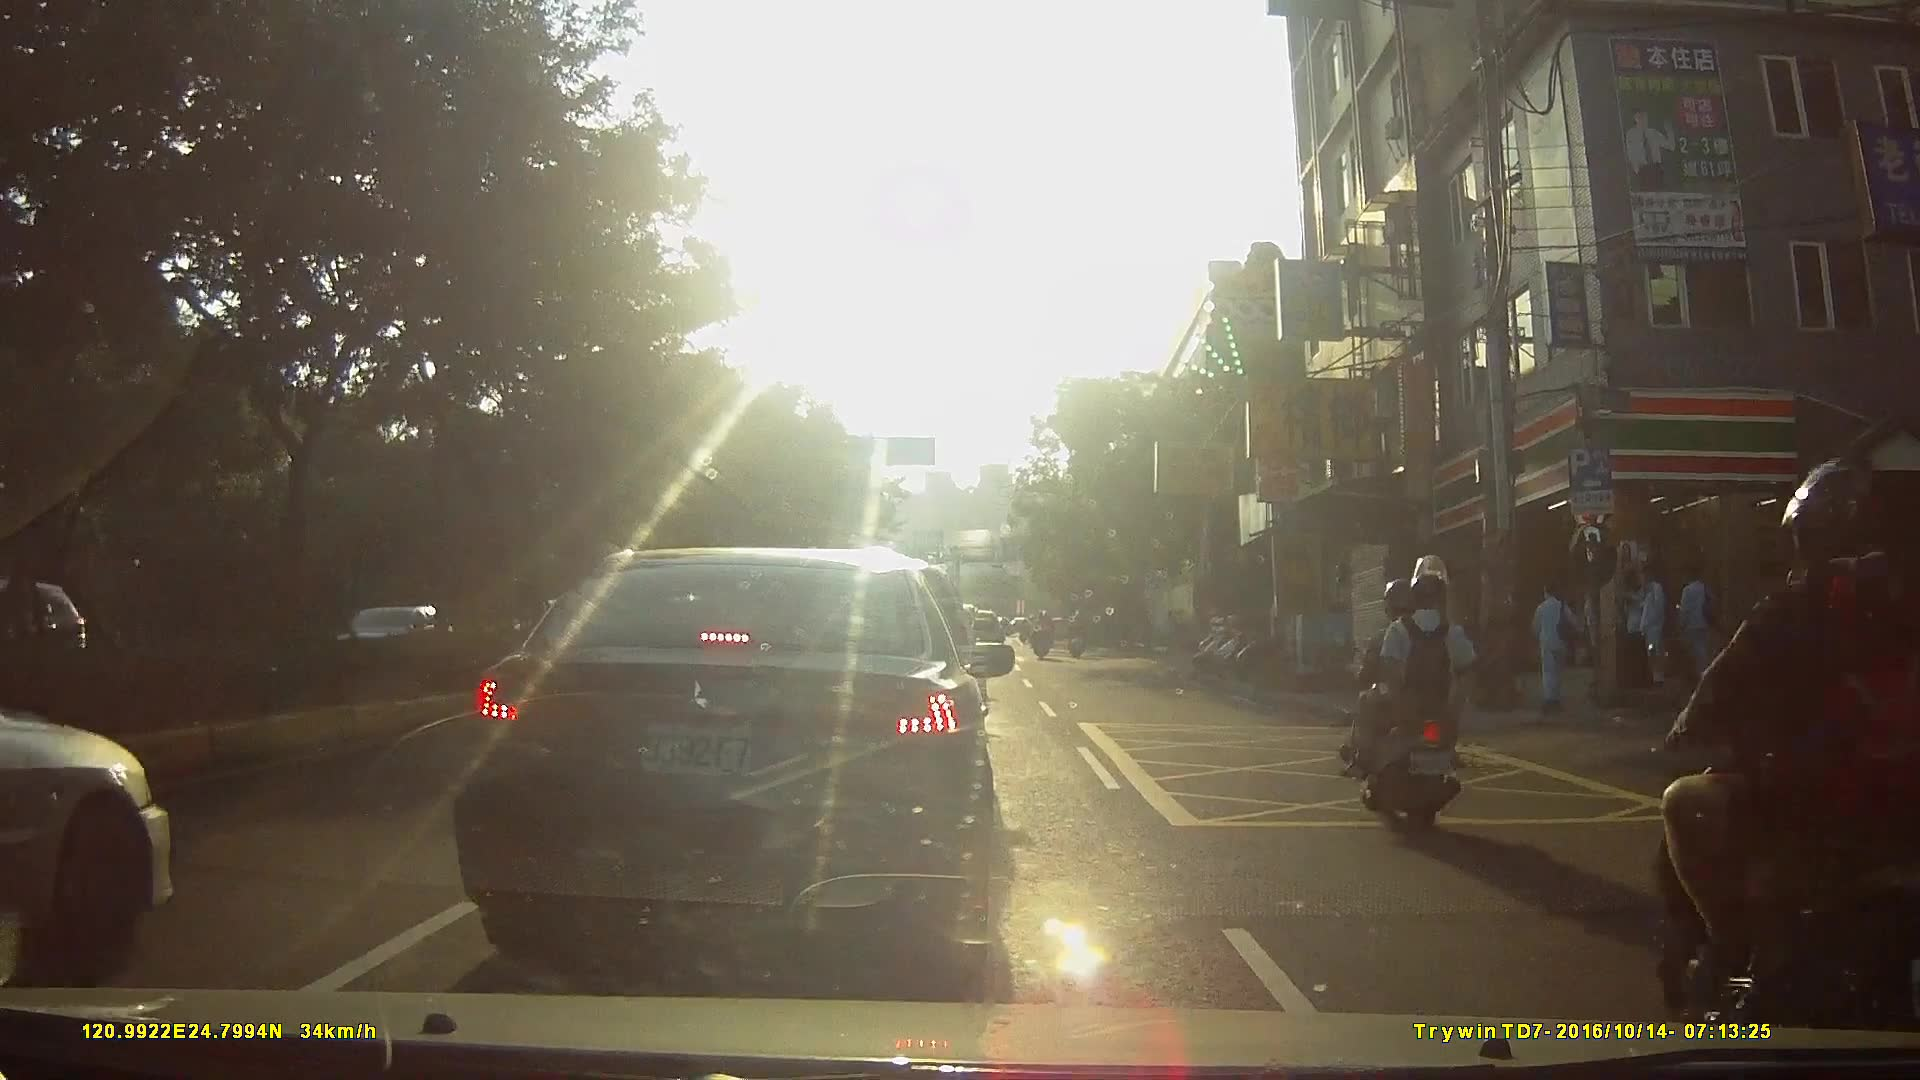pedestrian: (1766, 567, 1843, 828), (1797, 584, 1872, 780), (1623, 565, 1666, 691), (1679, 565, 1722, 682), (1616, 568, 1647, 699)
rider: (1657, 454, 1920, 1077), (1342, 554, 1483, 831), (1033, 607, 1054, 663), (1065, 613, 1088, 663)
vehicle: (455, 537, 1042, 972), (1, 695, 188, 994), (1, 576, 95, 688)
